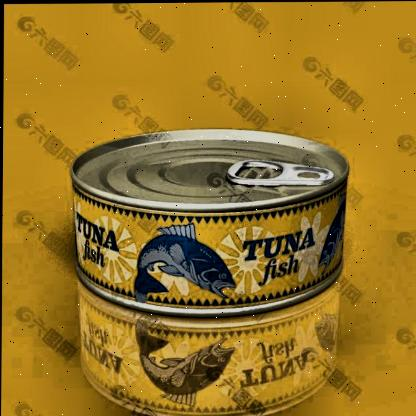Can: (68, 128, 350, 314)
